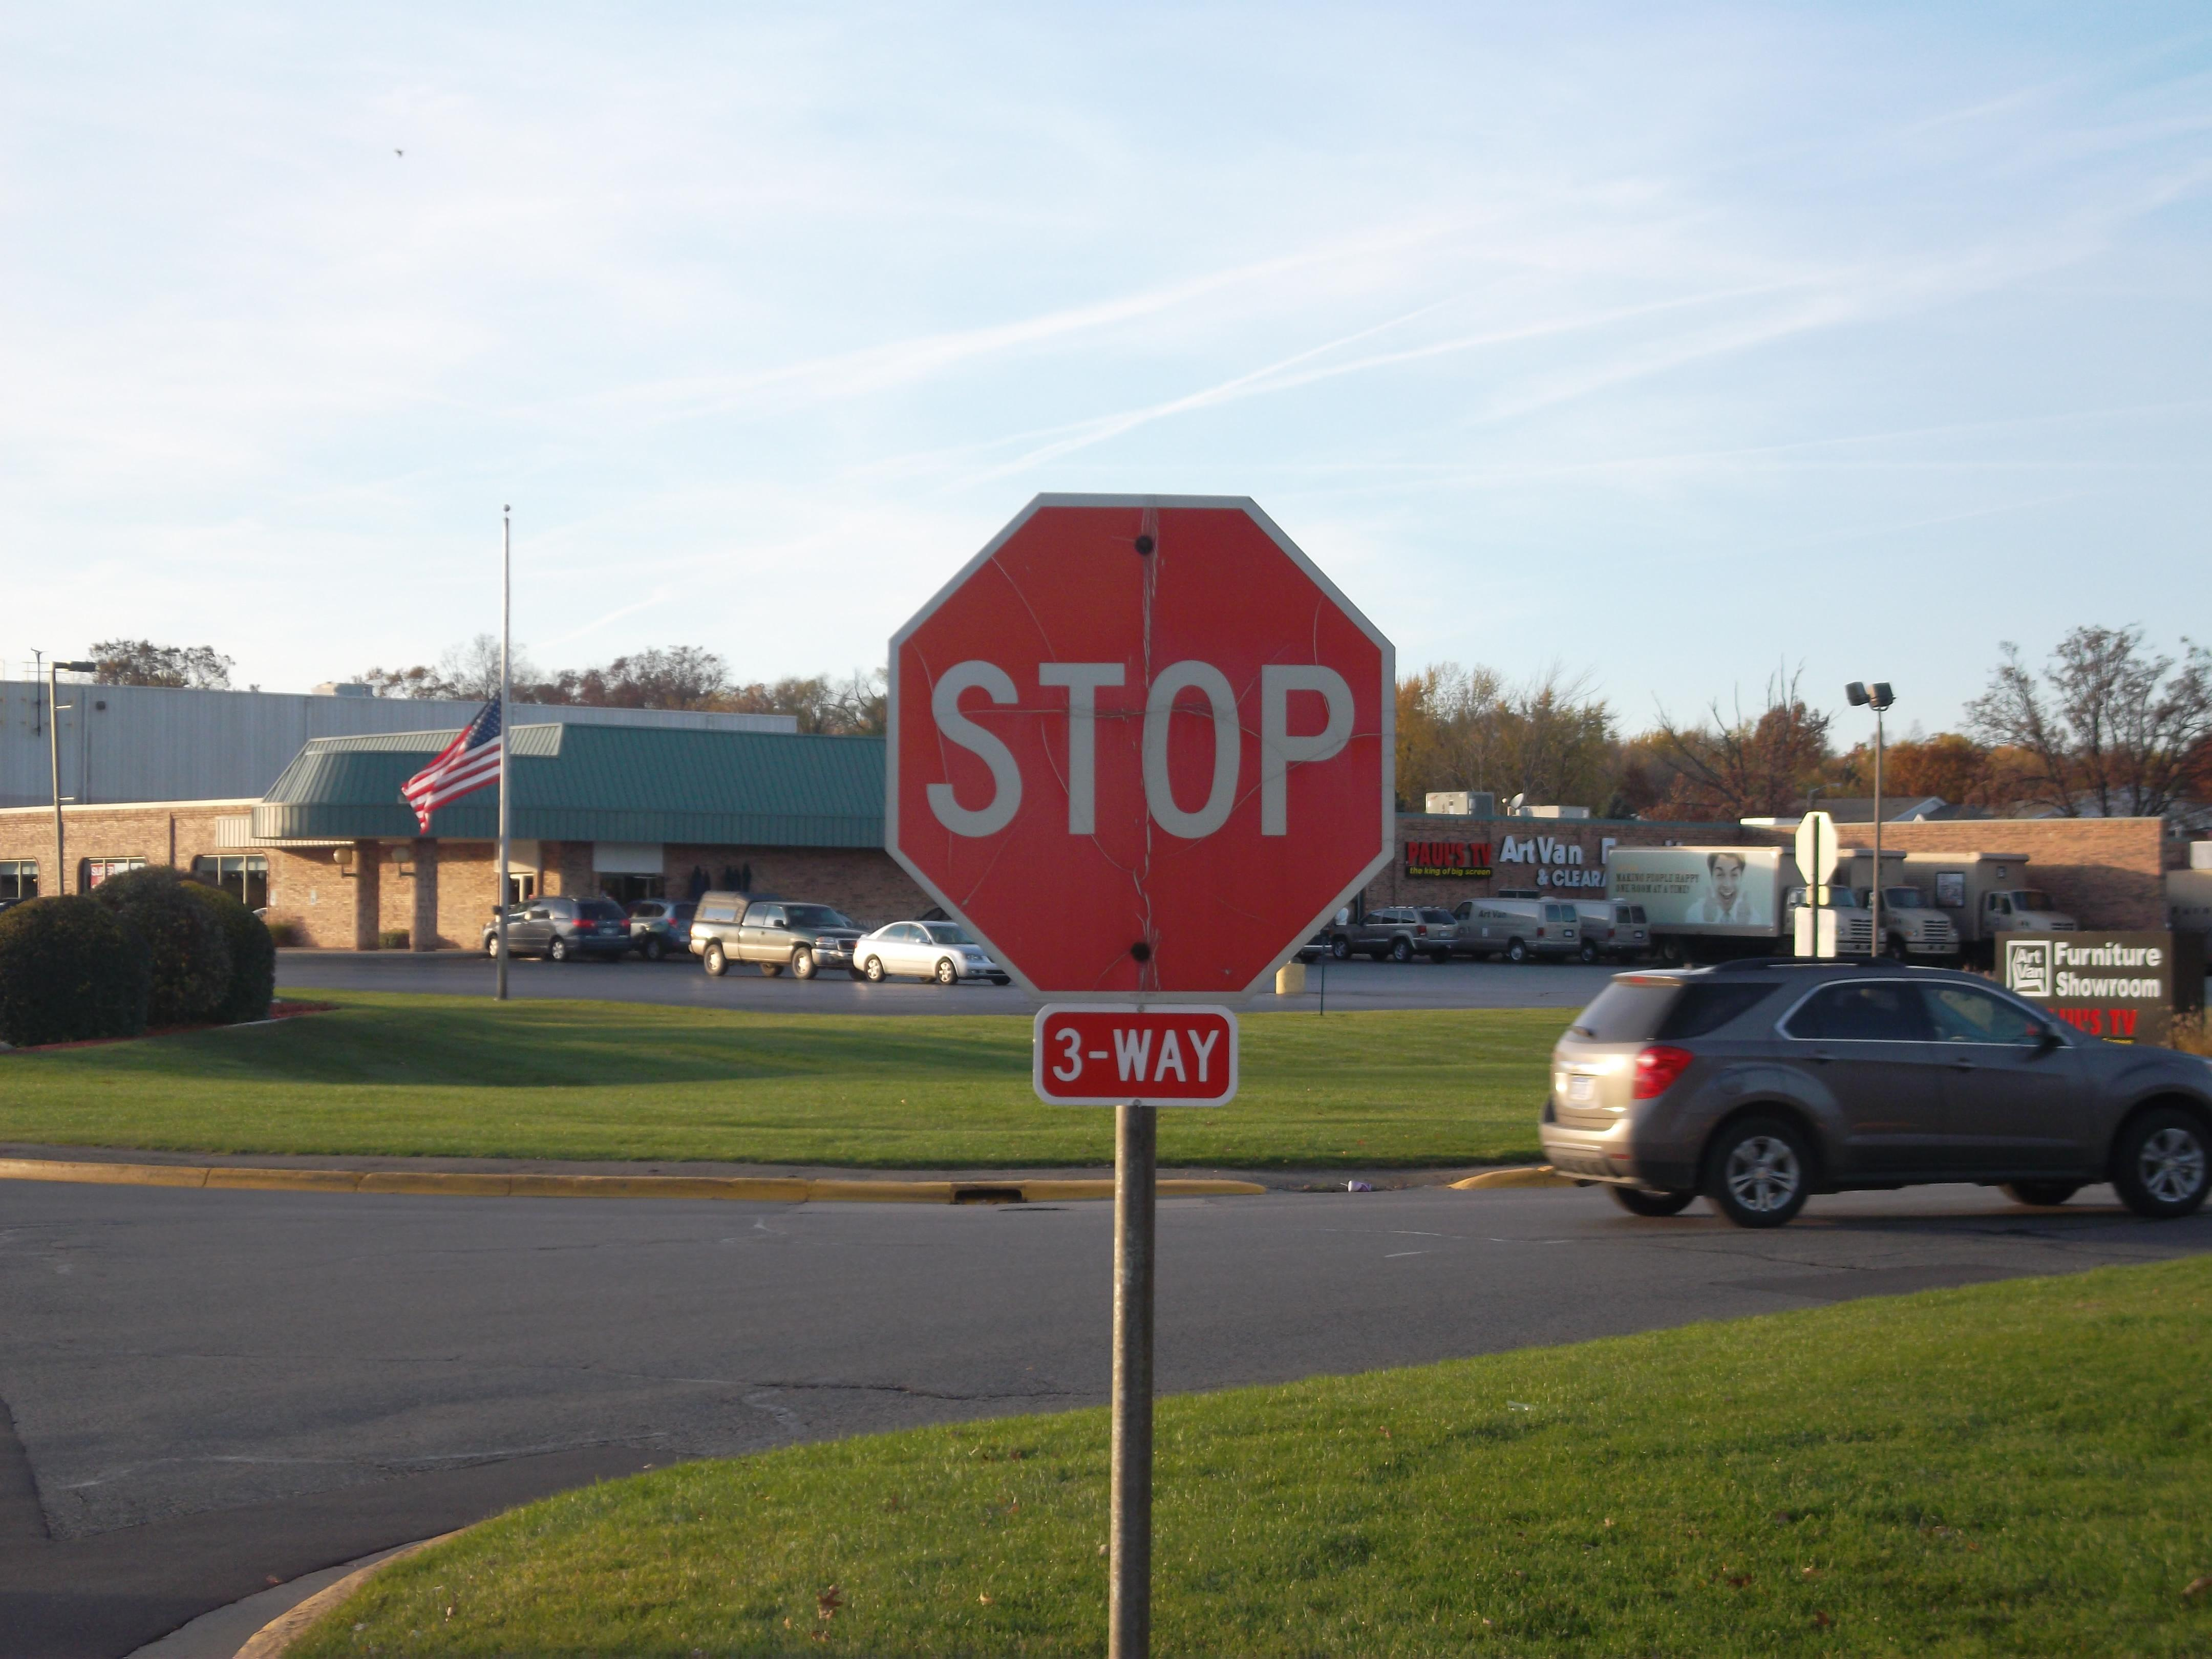stop: (904, 498, 1400, 1002)
